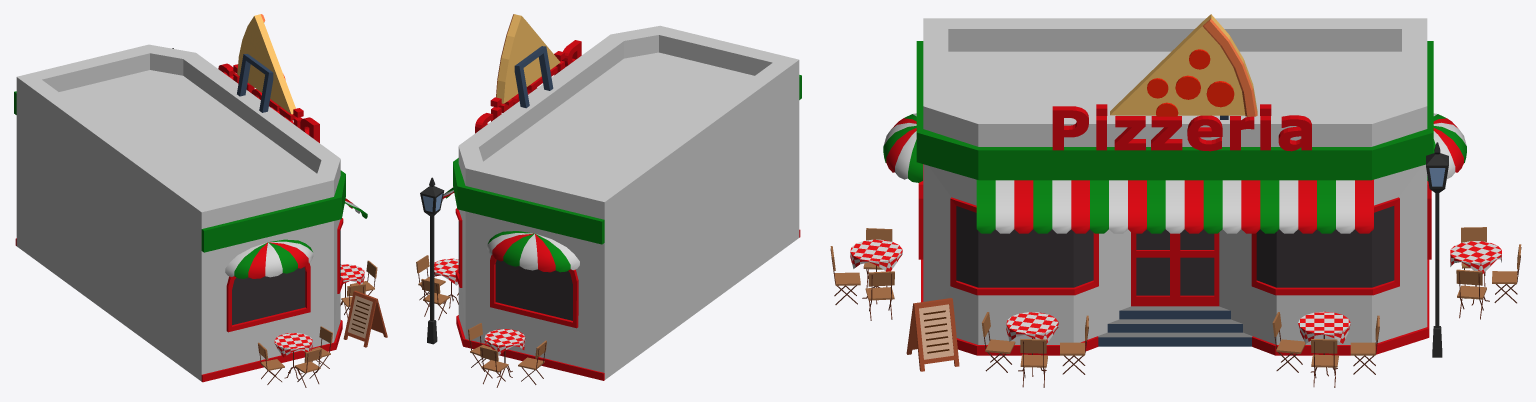
File: SM_Building_Pizza.fbx
3 renders of one model, left to right at view 1: azimuth 30°, elevation 25°; view 2: azimuth 150°, elevation 25°; view 3: azimuth 270°, elevation 25°, orthographic. The views are drawn at different scales.
Parts seen in each view (by area): view 1: PizzaBoard1; view 2: PizzaBoard1; view 3: PizzaBoard1.
Boxes of the visible parts, x1=… form: PizzaBoard1: x1=14, y1=14, x2=387, y2=387; PizzaBoard1: x1=416, y1=14, x2=801, y2=387; PizzaBoard1: x1=830, y1=14, x2=1521, y2=387.
Size of the model in its own units: 291 by 327 by 603.
1 material, 1 textured.
